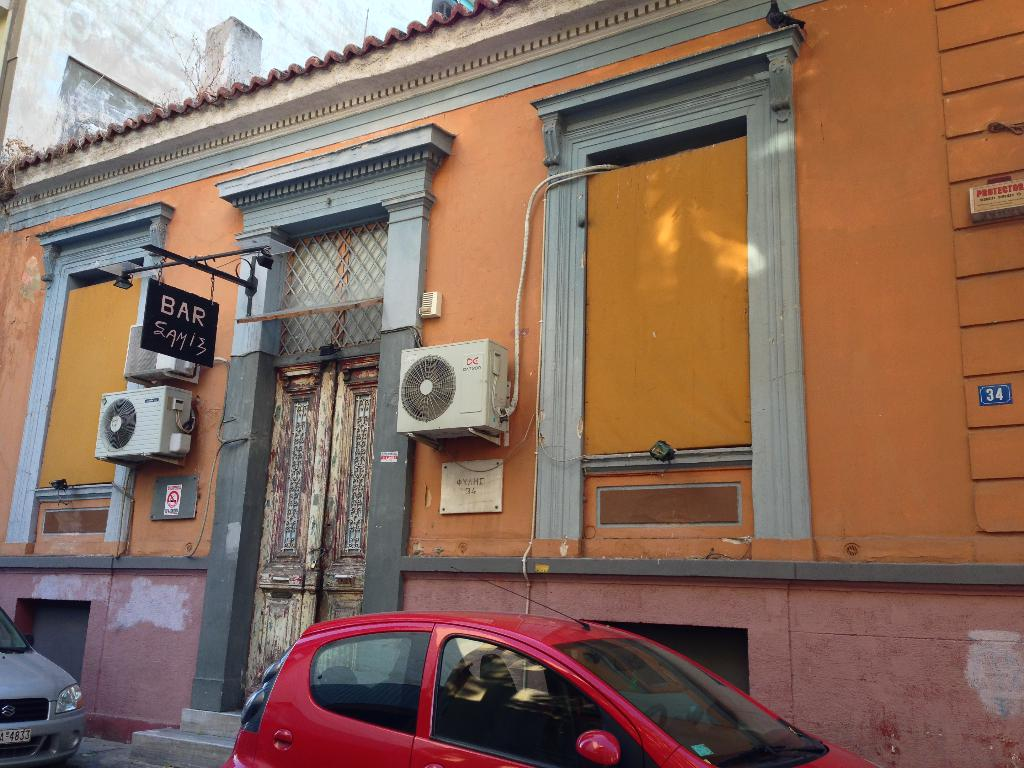Door: (237, 356, 382, 702)
